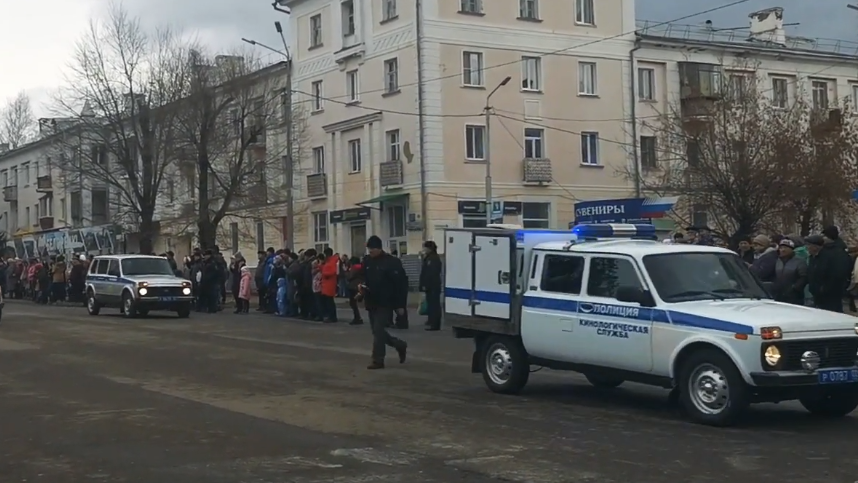police car: (442, 218, 855, 423), (84, 251, 193, 320)
